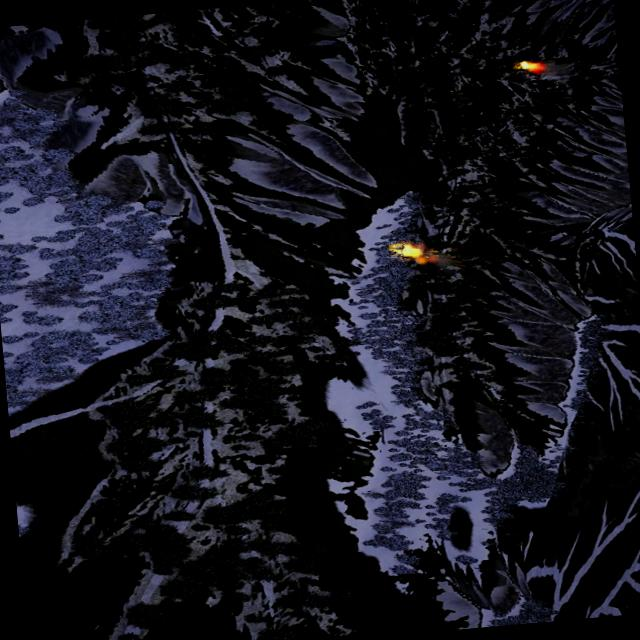fire: (394, 241, 424, 261), (516, 59, 542, 73)
smoke: (423, 248, 461, 274), (537, 60, 575, 83)
